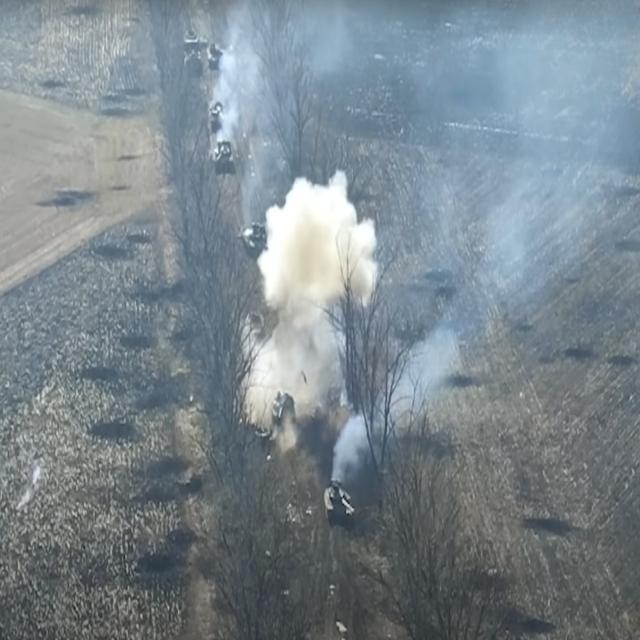AIFV: (247, 308, 267, 347), (186, 52, 204, 78), (184, 24, 201, 50), (580, 595, 586, 599)
MBT: (322, 477, 357, 528), (231, 219, 271, 262), (270, 388, 298, 434), (212, 136, 237, 178), (207, 98, 231, 135), (208, 40, 231, 75)
